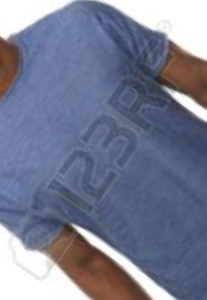arm: (1, 246, 158, 299), (162, 16, 207, 103)
chest: (10, 82, 207, 236)
